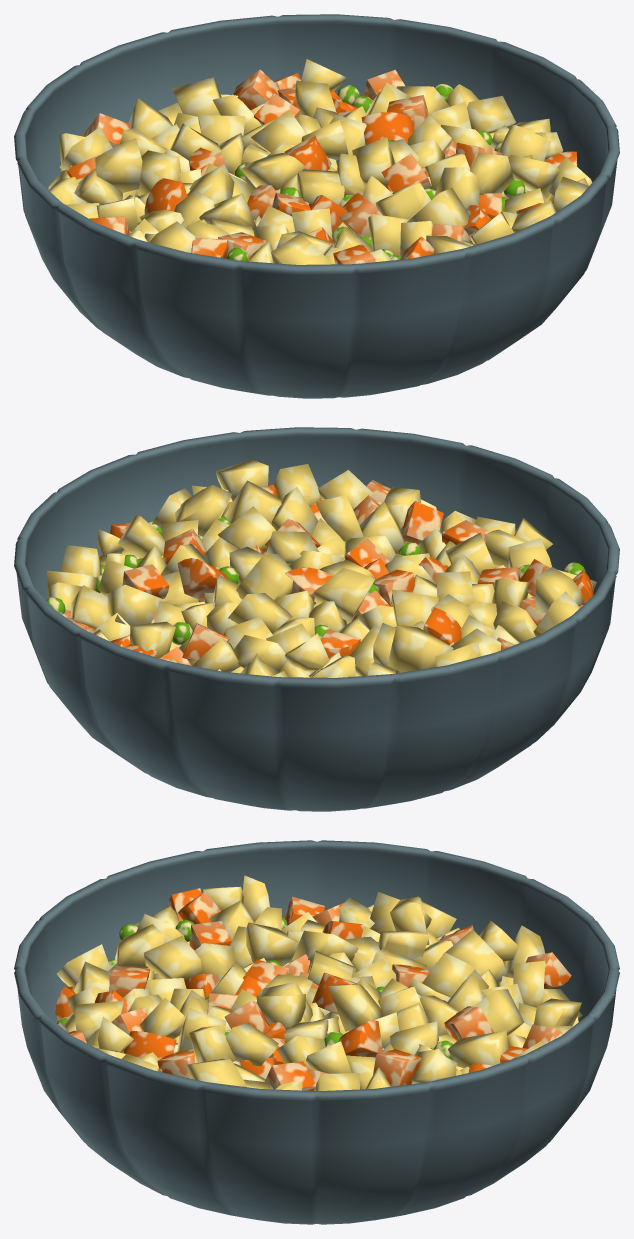
The model's file is Ensalada_patatas.fbx.
3 views of the same model, one above another, from view 1: azimuth 30°, elevation 25°; view 2: azimuth 150°, elevation 25°; view 3: azimuth 270°, elevation 25° (orthographic).
Parts seen in each view (by area): view 1: Salad_Bowl, Potatoe_Part_1.202; view 2: Salad_Bowl, Potatoe_Part_1.202; view 3: Salad_Bowl, Potatoe_Part_1.202.
Part boxes in pixels (left/top/right/bottom): Salad_Bowl: left=14, top=14, right=619, bottom=398; Potatoe_Part_1.202: left=48, top=59, right=592, bottom=264; Salad_Bowl: left=14, top=427, right=619, bottom=811; Potatoe_Part_1.202: left=46, top=459, right=596, bottom=677; Salad_Bowl: left=14, top=840, right=619, bottom=1224; Potatoe_Part_1.202: left=55, top=875, right=582, bottom=1090.
Bounding box in the file's own units: 203 × 72.17 × 203.
